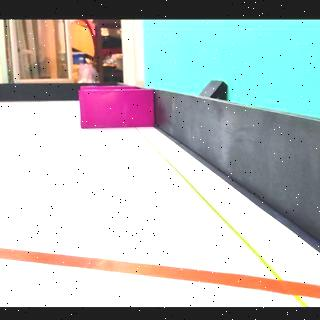xparking: (80, 90, 151, 126)
